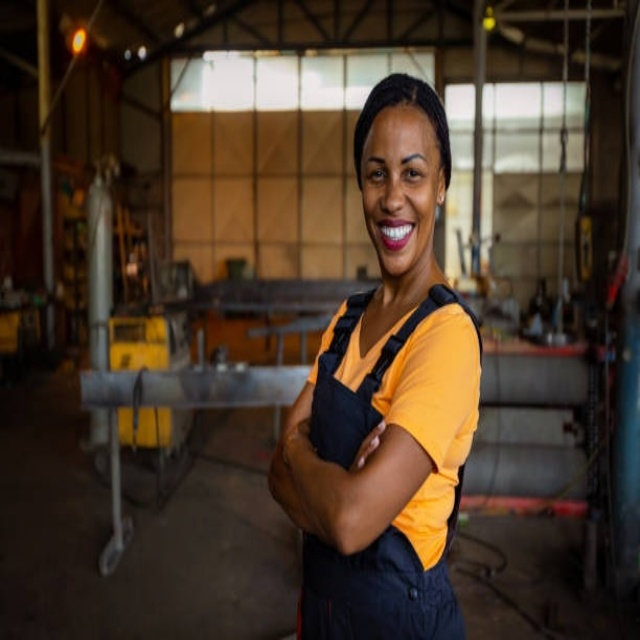Sin_gafas: (364, 144, 432, 191)
Sin_mascara: (375, 218, 416, 250)
